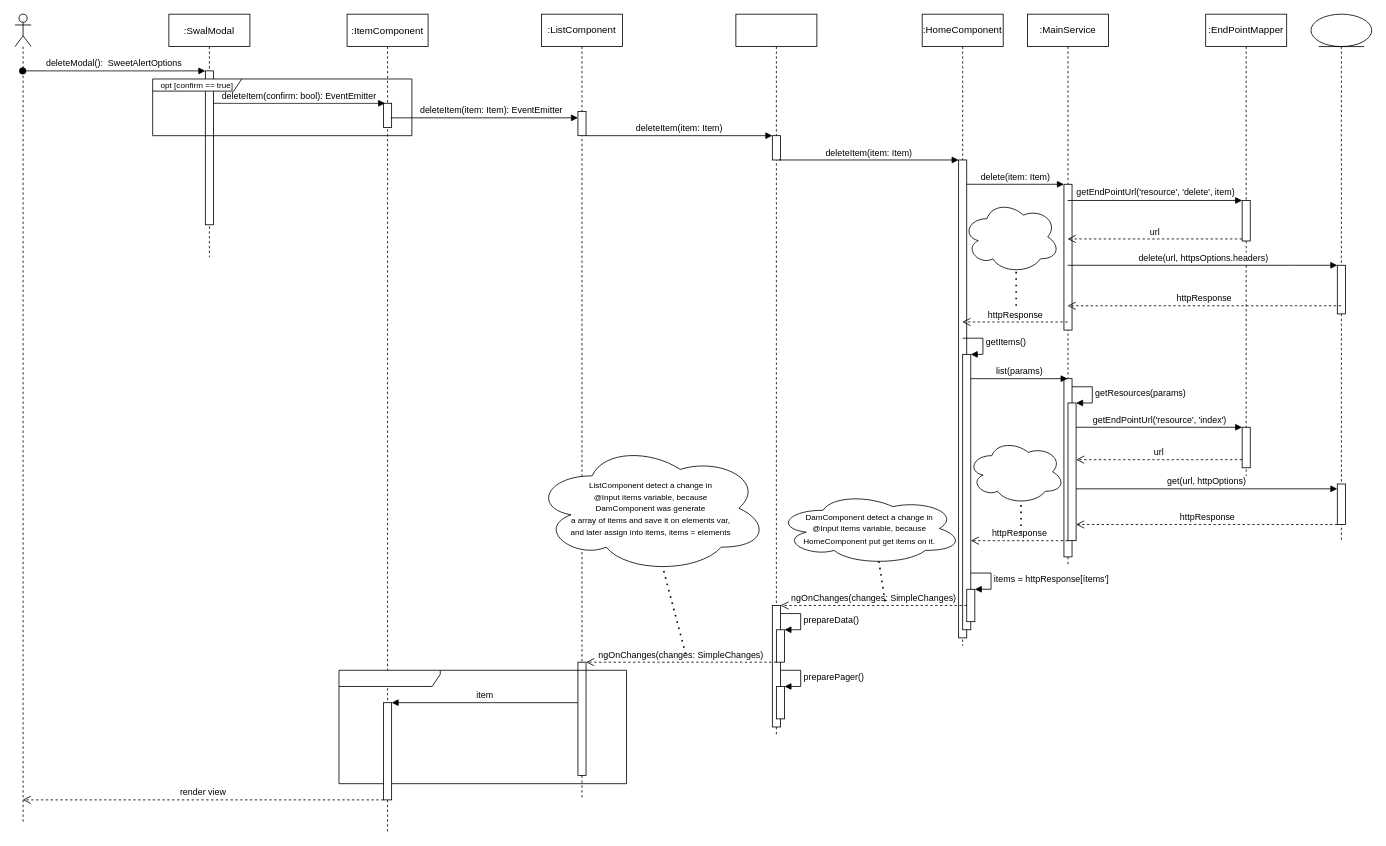
Some shapes in this 1386 by 846 pixel diagram are drawn without their labels. The box of each missing label's shape, as (x1, y1, x2, y2) in pixels:
:DamComponent: (735, 13, 817, 735)
Empty response: (962, 200, 1060, 273)
HttpClient: (1310, 13, 1372, 541)
loop [item of items]: (338, 669, 627, 784)
Response with all resources: (967, 439, 1065, 504)
